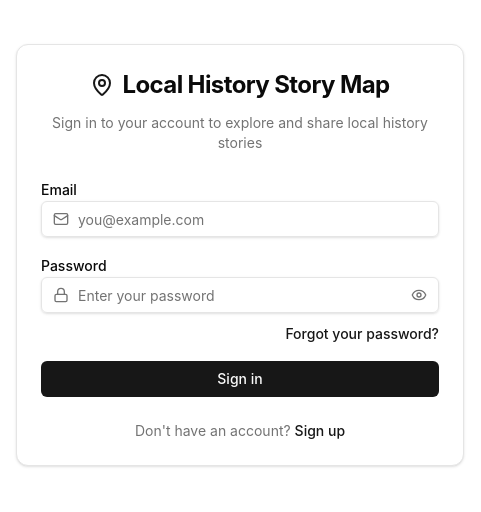
Test: LoginPage › shows validation error for empty email
Click the button "Sign in".
click(240, 379)  # box [41,361,439,397]
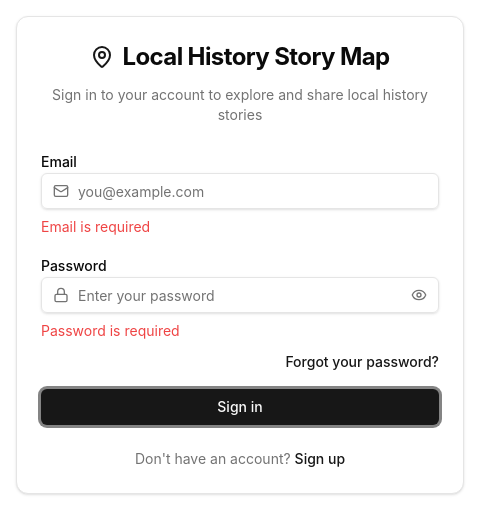
Expected: the text "Email is required" is shown, [41,218,150,235]
